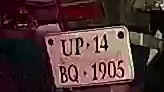0: (107, 59, 117, 81)
1: (89, 61, 99, 82), (91, 34, 100, 56)
4: (100, 34, 109, 54)
5: (115, 58, 127, 77)
9: (98, 61, 108, 82)
B: (58, 64, 68, 84)
P: (73, 36, 83, 58)
Q: (67, 61, 80, 85)
U: (60, 39, 73, 57)
